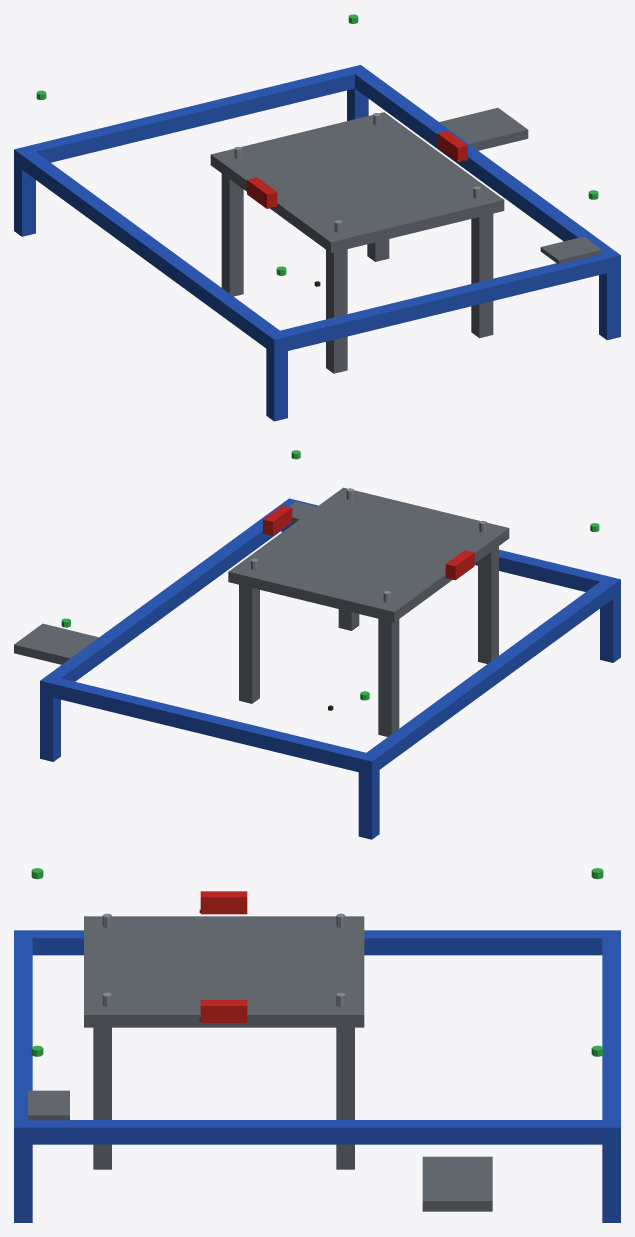
Rendered from ENV_PantographStand.fbx.
3 renders of one model, top to bottom at view 1: azimuth 30°, elevation 25°; view 2: azimuth 150°, elevation 25°; view 3: azimuth 270°, elevation 25°, orthographic. The views are drawn at different scales.
Parts seen in each view (by area): view 1: SupportSeat, Frame_Short_S, Frame_Short_N, Frame_Long_W, Frame_Long_E, SeatPost.001, ToolTray, SeatPost.002, SeatPost, Leg.008, Leg.010, Leg.009 (+4 smaller); view 2: SupportSeat, Frame_Short_N, Frame_Long_W, Frame_Long_E, SeatPost.001, SeatPost.003, Frame_Short_S, SeatPost, ToolTray, Leg.009, Leg.011, Leg.008 (+2 smaller); view 3: SupportSeat, Frame_Long_E, Frame_Long_W, ToolTray, Frame_Short_N, Frame_Short_S, SeatPost.002, SeatPost.003, Leg.010, Leg.011, BoltTray, StandClamp_1 (+1 smaller).
Boxes of the visible parts, box(x1,y1,x2,y2) form: SupportSeat: box(210, 112, 504, 252); Frame_Short_S: box(266, 251, 620, 354); Frame_Short_N: box(14, 65, 366, 168); Frame_Long_W: box(14, 146, 287, 353); Frame_Long_E: box(347, 65, 620, 272); SeatPost.001: box(221, 173, 243, 296); ToolTray: box(439, 108, 528, 150); SeatPost.002: box(471, 213, 493, 338); SeatPost: box(326, 249, 347, 373); Leg.008: box(266, 331, 287, 421); Leg.010: box(599, 256, 620, 340); Leg.009: box(14, 154, 35, 236); SupportSeat: box(228, 487, 509, 622); Frame_Short_N: box(40, 676, 378, 774); Frame_Long_W: box(358, 576, 620, 775); Frame_Long_E: box(40, 498, 301, 697); SeatPost.001: box(378, 619, 399, 736); SeatPost.003: box(239, 585, 259, 703); Frame_Short_S: box(282, 498, 620, 591); SeatPost: box(478, 546, 498, 663); ToolTray: box(14, 623, 98, 664); Leg.009: box(358, 756, 379, 839); Leg.011: box(40, 678, 60, 761); Leg.008: box(600, 580, 620, 662); SupportSeat: box(84, 916, 364, 1027); Frame_Long_E: box(14, 1120, 620, 1144); Frame_Long_W: box(14, 930, 620, 955); ToolTray: box(422, 1156, 492, 1211); Frame_Short_N: box(602, 930, 620, 1144); Frame_Short_S: box(14, 930, 32, 1144); SeatPost.002: box(93, 1027, 111, 1169); SeatPost.003: box(336, 1027, 354, 1169); Leg.010: box(14, 1120, 32, 1222); Leg.011: box(602, 1120, 620, 1222); BoltTray: box(28, 1090, 69, 1120); StandClamp_1: box(200, 891, 247, 914).
Bounding box in the file's own units: 2.47 × 0.84 × 2.6.
Materials: 3 (3 with a texture image).
